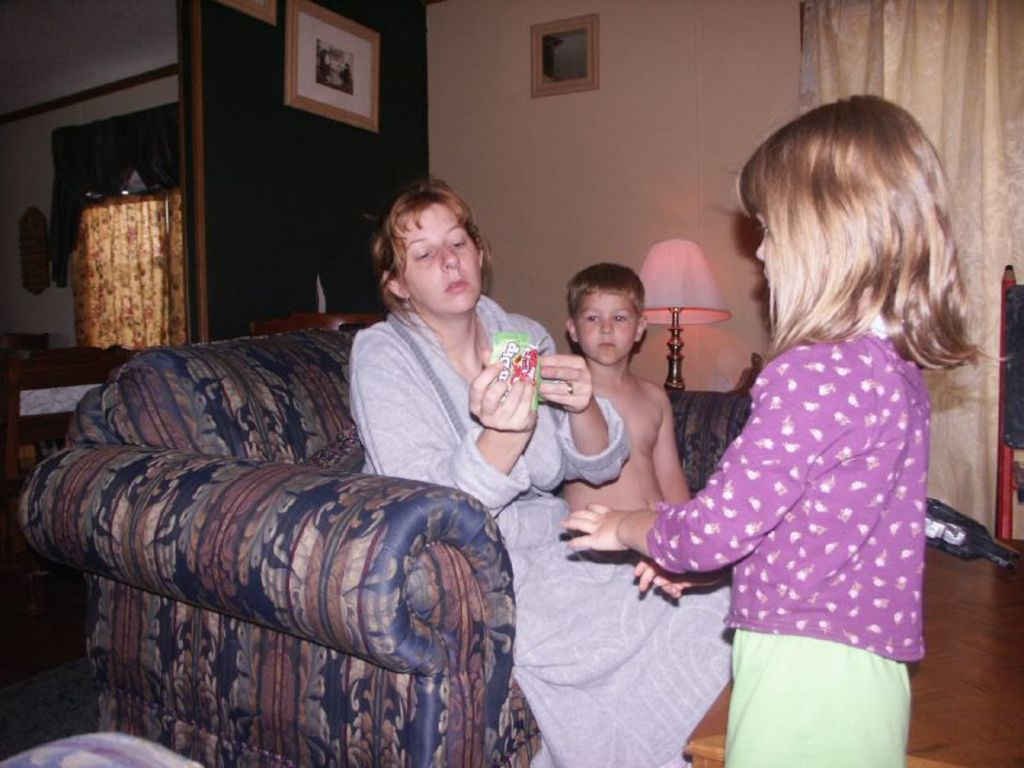Couch: (17, 321, 753, 765)
